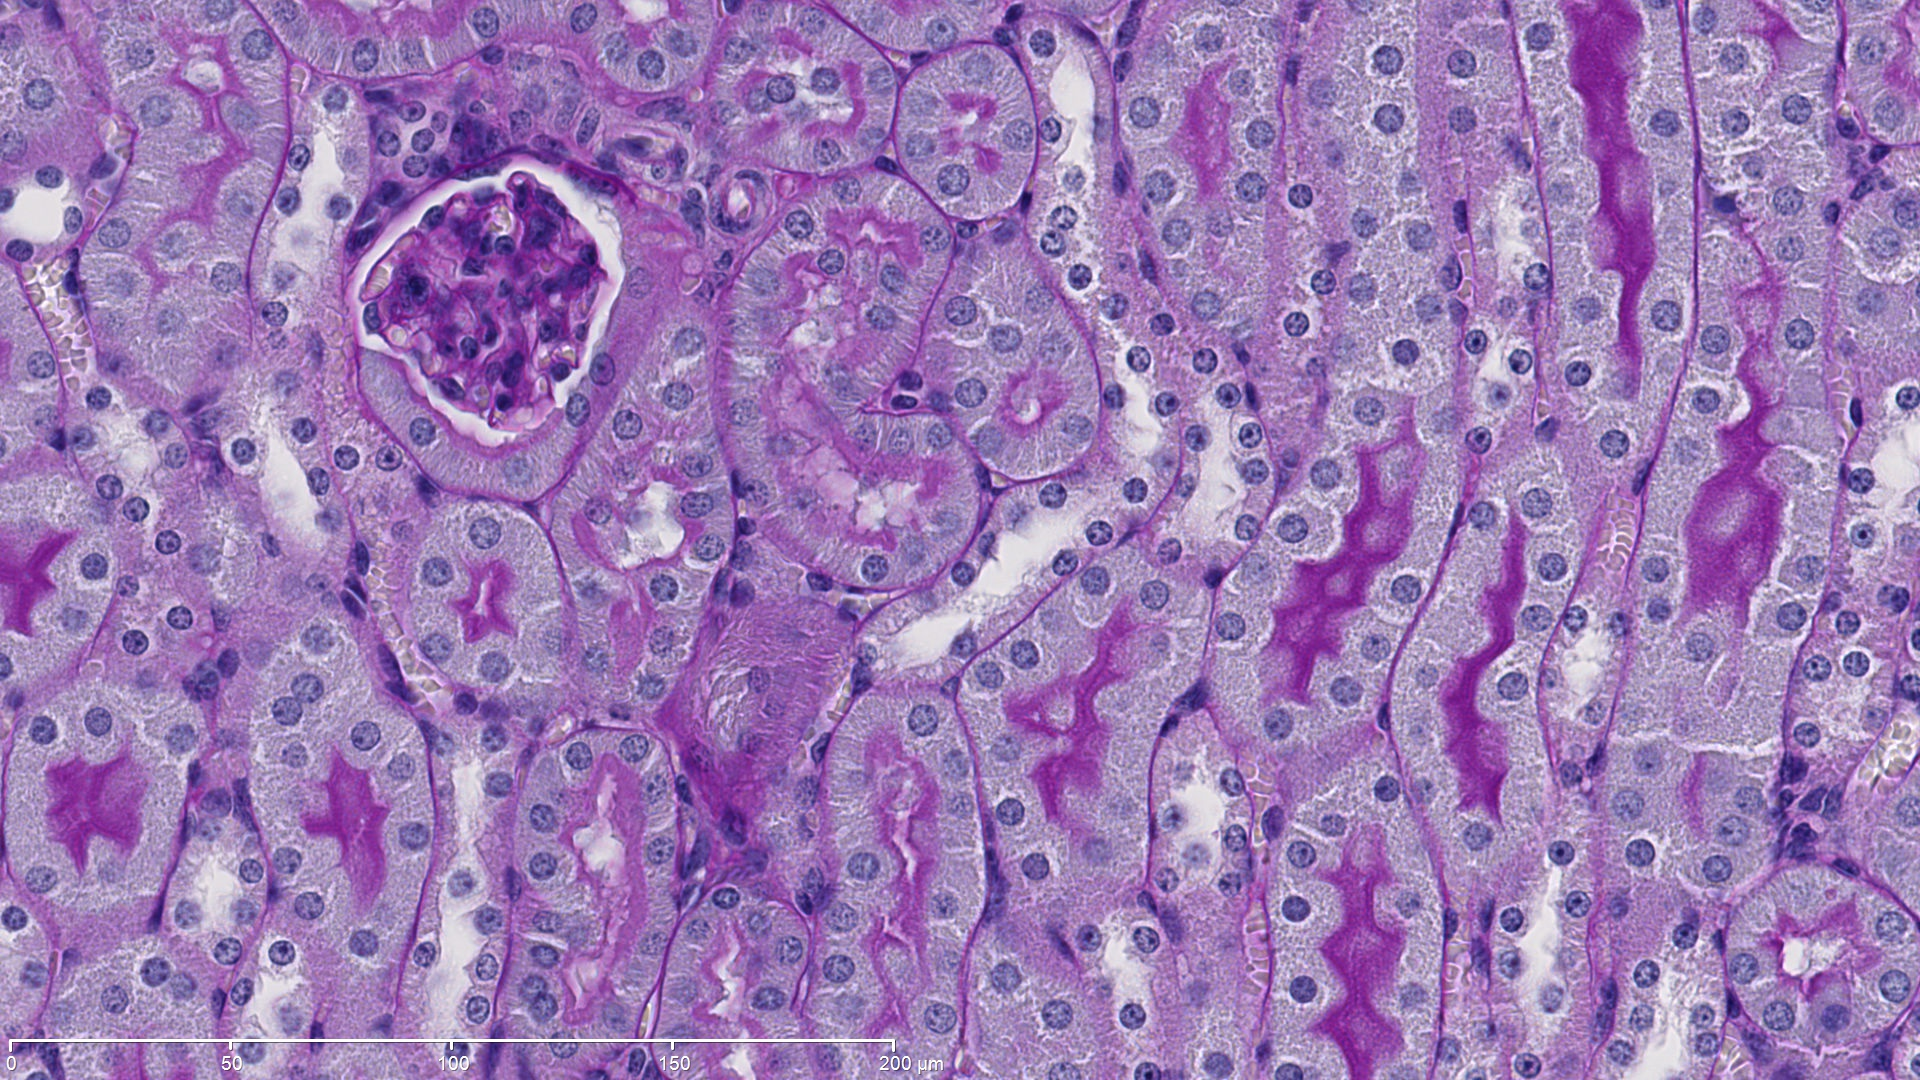Glomeruli: (347, 150, 633, 460)
